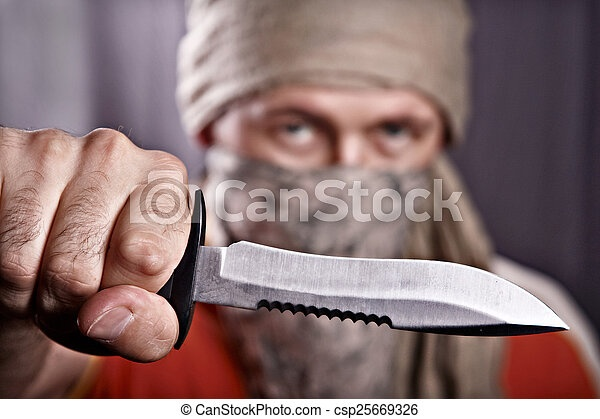knife: (173, 188, 571, 351)
mask: (173, 1, 478, 249)
